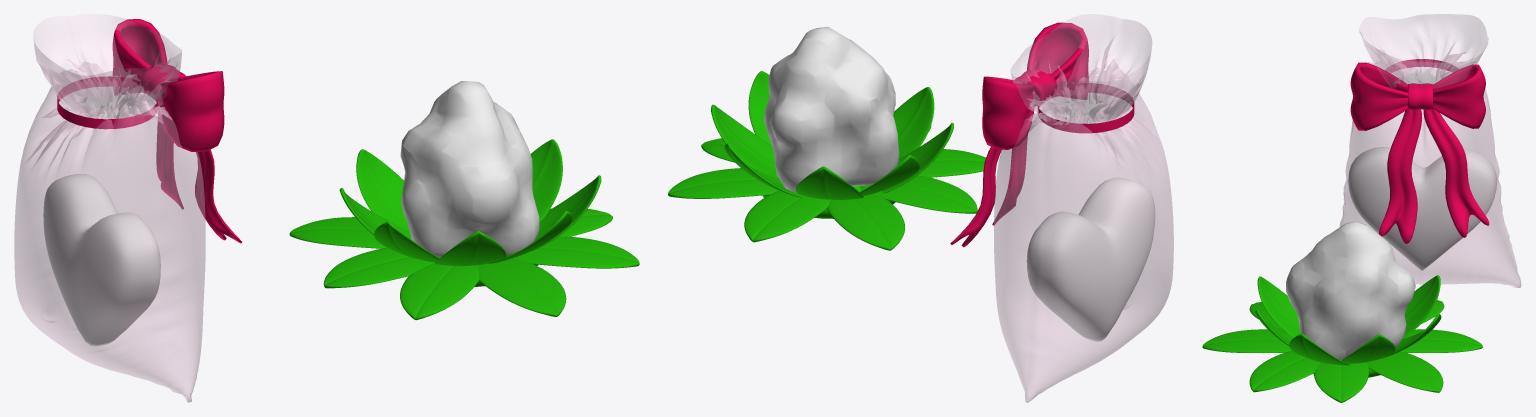
The model's file is itens doces.fbx.
3 renders of one model, left to right at view 1: azimuth 30°, elevation 25°; view 2: azimuth 150°, elevation 25°; view 3: azimuth 270°, elevation 25°, orthographic. The views are drawn at different scales.
Parts seen in each view (by area): view 1: Coração de Chocolate, Circle.004, Mball.015; view 2: Coração de Chocolate, Circle.004, Mball.015; view 3: Coração de Chocolate, Circle.004, Mball.015.
Part boxes in pixels (x1,y1,x2,y2): Coração de Chocolate: (14, 14, 241, 402); Circle.004: (289, 139, 639, 320); Mball.015: (400, 81, 539, 257); Coração de Chocolate: (950, 14, 1173, 402); Circle.004: (668, 71, 985, 250); Mball.015: (764, 26, 899, 193); Coração de Chocolate: (1339, 14, 1521, 287); Circle.004: (1202, 275, 1482, 402); Mball.015: (1286, 221, 1415, 359).
Bounding box in the file's own units: 444 × 263 × 292.
